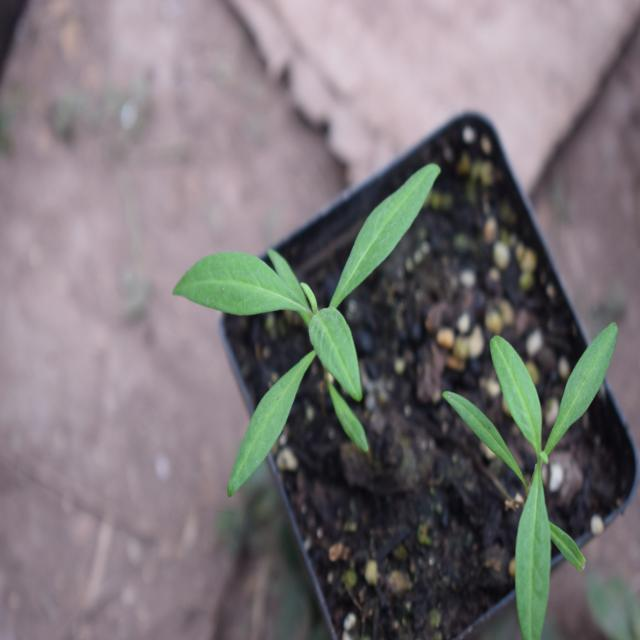white_smart_weed: (173, 139, 457, 499), (498, 333, 626, 617)
